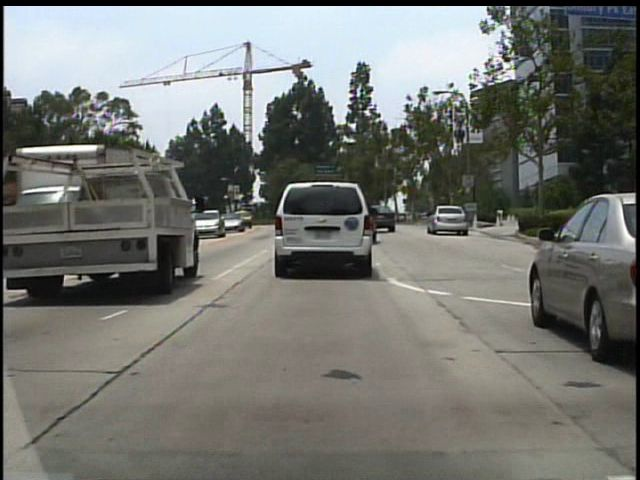person: (409, 197, 420, 225)
